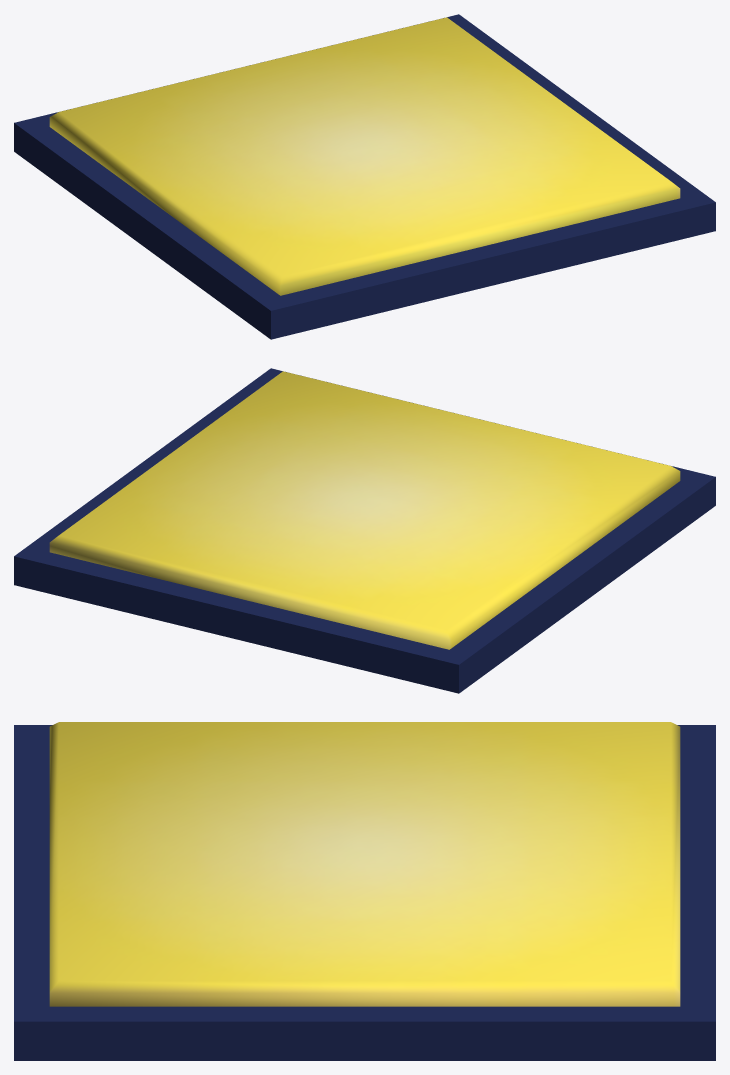
The model's file is tileYellow.glb.
3 views of the same model, one above another, from view 1: azimuth 30°, elevation 25°; view 2: azimuth 150°, elevation 25°; view 3: azimuth 270°, elevation 25° (orthographic). The views are drawn at different scales.
Parts seen in each view (by area): view 1: TileYellow; view 2: TileYellow; view 3: TileYellow.
Boxes of the visible parts, x1,y1,x2,y2 form: TileYellow: (14, 14, 715, 339); TileYellow: (14, 368, 715, 693); TileYellow: (14, 722, 715, 1060).
Size of what is drawn, in the model's own units: 2 by 0.192 by 2.
Materials: 1 (1 with a texture image).
